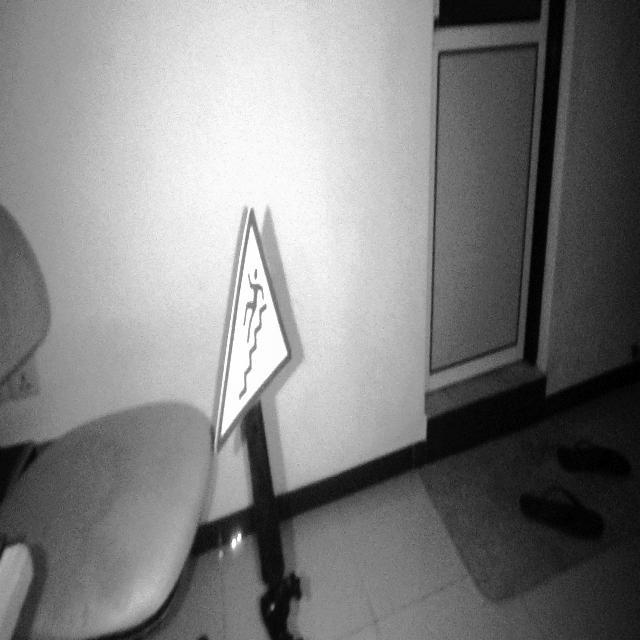Sign: (213, 202, 293, 457)
